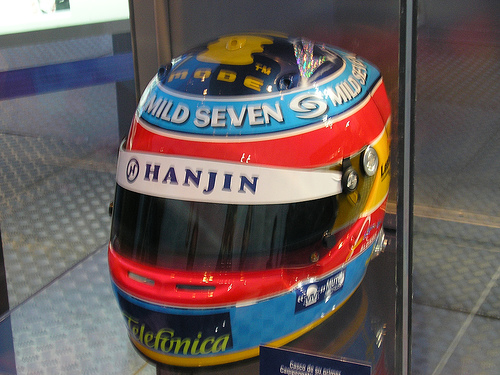helmet: (120, 52, 382, 355)
